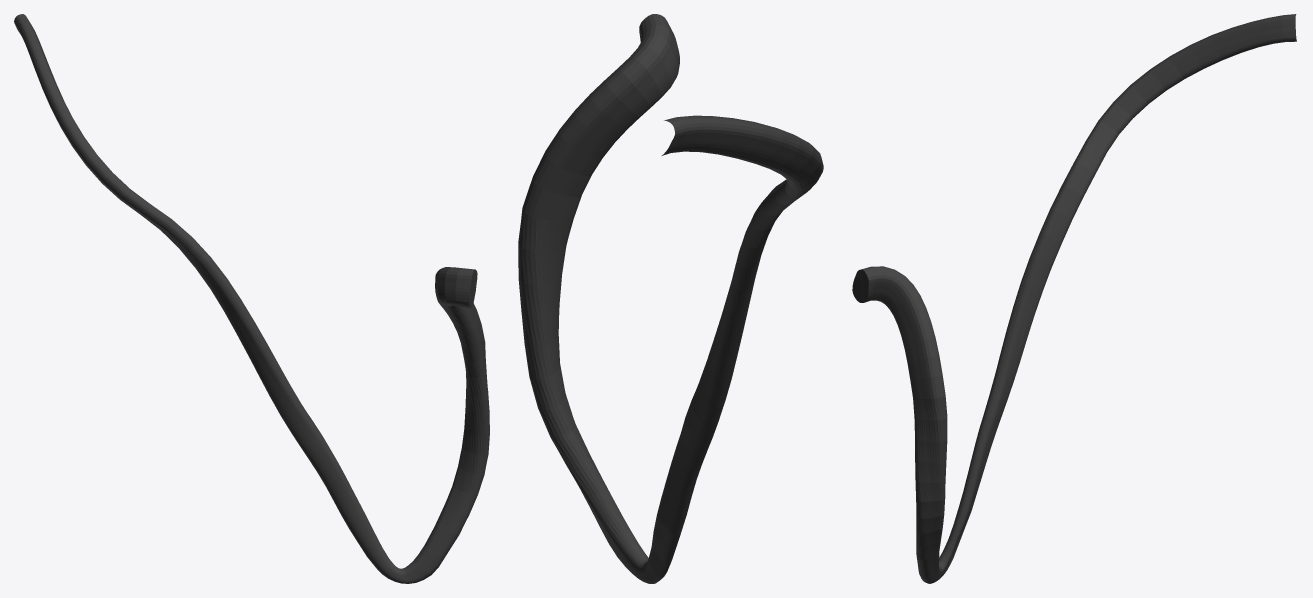
Rendered from N_9_glossopharnygeal.glb.
3 renders of one model, left to right at view 1: azimuth 30°, elevation 25°; view 2: azimuth 150°, elevation 25°; view 3: azimuth 270°, elevation 25°, orthographic. The views are drawn at different scales.
Parts seen in each view (by area): view 1: N_9_glossopharnygeal; view 2: N_9_glossopharnygeal; view 3: N_9_glossopharnygeal.
Part boxes in pixels (x1=…): N_9_glossopharnygeal: x1=14, y1=14, x2=489, y2=583; N_9_glossopharnygeal: x1=518, y1=14, x2=823, y2=583; N_9_glossopharnygeal: x1=852, y1=14, x2=1296, y2=583.
Bounding box in the file's own units: 0.00498 × 0.00757 × 0.00651.
1 material, 1 textured.
